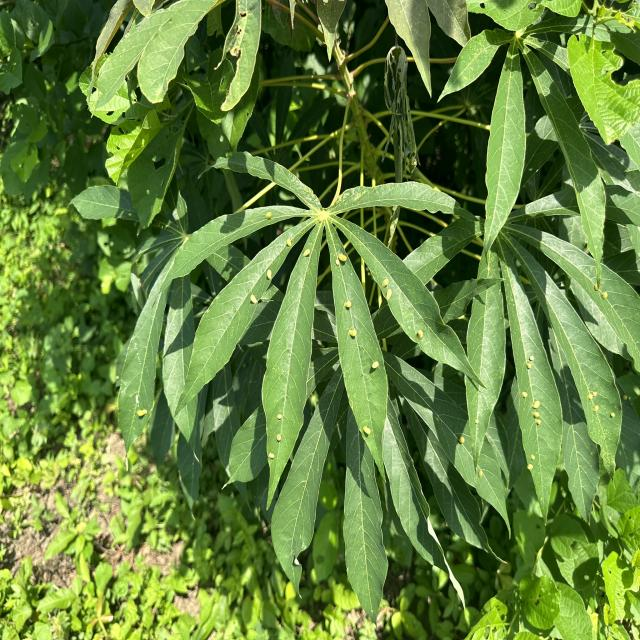Maleza: (6, 4, 106, 633), (39, 470, 272, 640), (509, 520, 640, 640), (88, 98, 198, 213), (571, 7, 640, 147)
Mosca: (263, 402, 296, 470), (338, 289, 360, 359), (585, 386, 617, 429), (342, 413, 377, 450), (522, 392, 553, 431), (364, 348, 388, 391), (374, 272, 401, 309), (278, 236, 325, 257), (123, 397, 154, 428), (250, 194, 282, 221), (448, 430, 480, 457), (593, 273, 617, 308), (325, 243, 360, 265), (408, 319, 431, 349), (518, 443, 541, 472), (240, 278, 260, 309), (521, 345, 545, 369), (473, 463, 494, 483), (260, 260, 274, 284)
